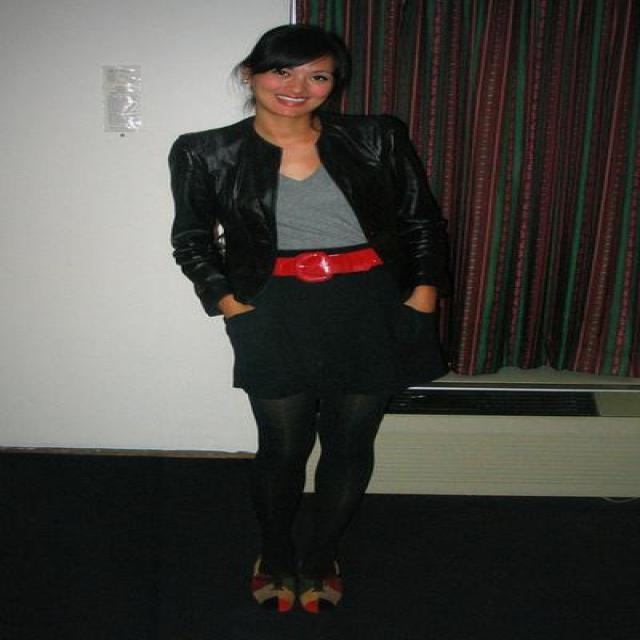jacket: (168, 98, 440, 316)
shirt: (275, 166, 363, 250)
shoe: (253, 584, 339, 612)
skirt: (224, 233, 448, 403)
